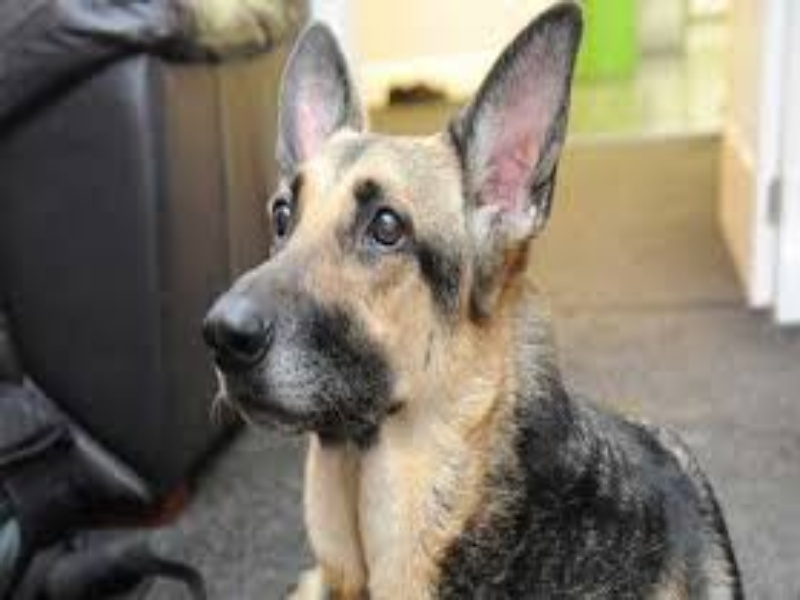dog: (202, 13, 739, 600)
